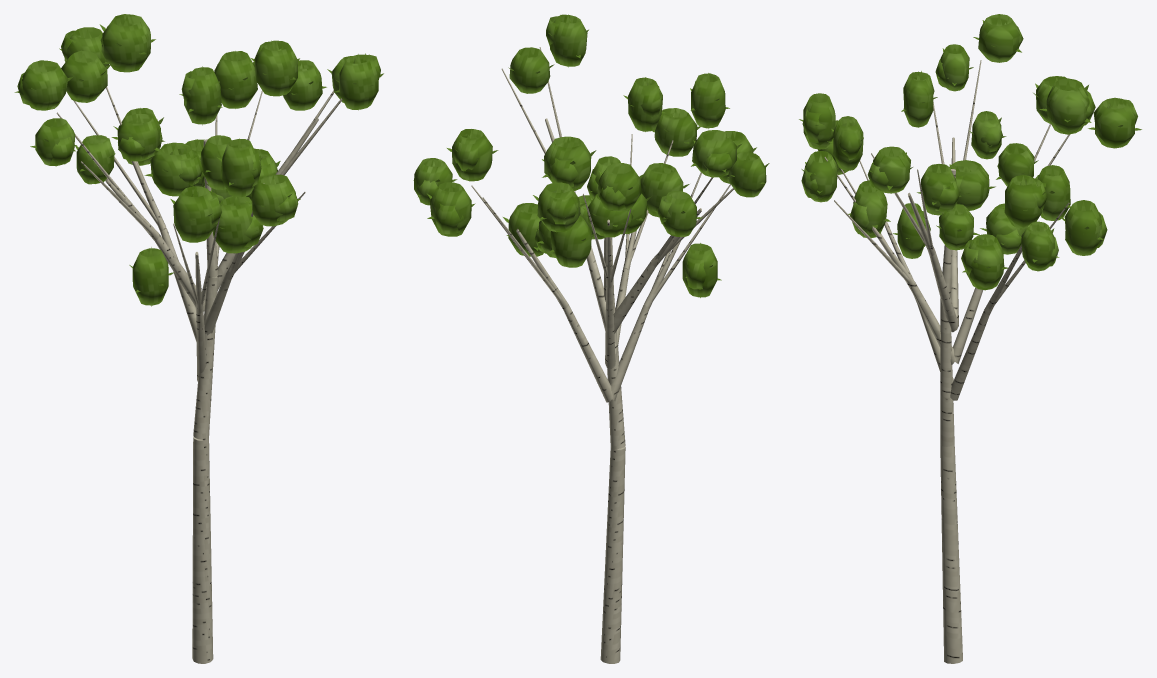
The model's file is birch02-lod0.glb.
3 views of the same model, side by side, from view 1: azimuth 30°, elevation 25°; view 2: azimuth 150°, elevation 25°; view 3: azimuth 270°, elevation 25° (orthographic). The views are drawn at different scales.
Parts seen in each view (by area): view 1: TZ_birch_Batch_01_LOD0, TZ_birch_Batch_00_LOD0, TZ_birch_Batch_02_LOD0; view 2: TZ_birch_Batch_01_LOD0, TZ_birch_Batch_00_LOD0, TZ_birch_Batch_02_LOD0; view 3: TZ_birch_Batch_01_LOD0, TZ_birch_Batch_00_LOD0, TZ_birch_Batch_02_LOD0.
Boxes of the visible parts, x1=… form: TZ_birch_Batch_01_LOD0: x1=17, y1=14, x2=380, y2=306; TZ_birch_Batch_00_LOD0: x1=56, y1=87, x2=342, y2=663; TZ_birch_Batch_02_LOD0: x1=14, y1=24, x2=383, y2=292; TZ_birch_Batch_01_LOD0: x1=414, y1=14, x2=766, y2=297; TZ_birch_Batch_00_LOD0: x1=471, y1=47, x2=734, y2=663; TZ_birch_Batch_02_LOD0: x1=413, y1=29, x2=769, y2=280; TZ_birch_Batch_01_LOD0: x1=801, y1=14, x2=1137, y2=290; TZ_birch_Batch_00_LOD0: x1=824, y1=60, x2=1069, y2=663; TZ_birch_Batch_02_LOD0: x1=799, y1=20, x2=1141, y2=272.
Bounding box in the file's own units: 4.58 × 8.1 × 4.28.
3 materials, 3 textured.
